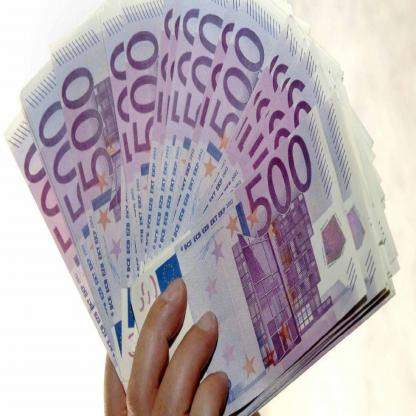billete: (1, 0, 403, 414)
